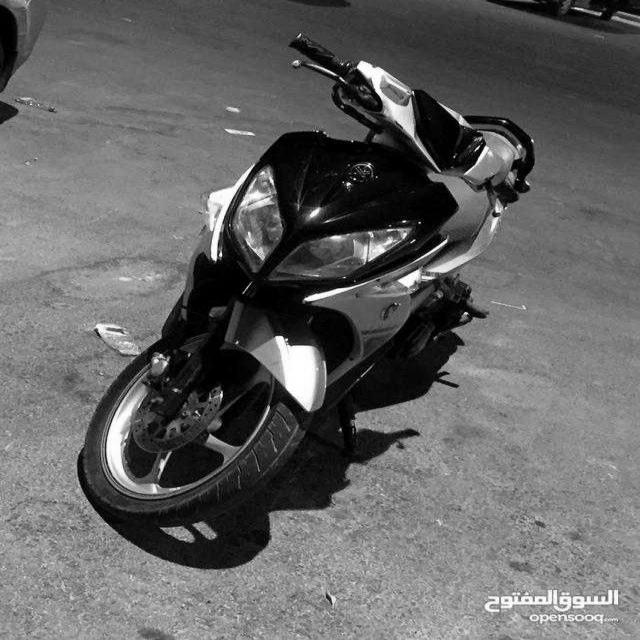Motorcycle: (80, 36, 533, 525)
